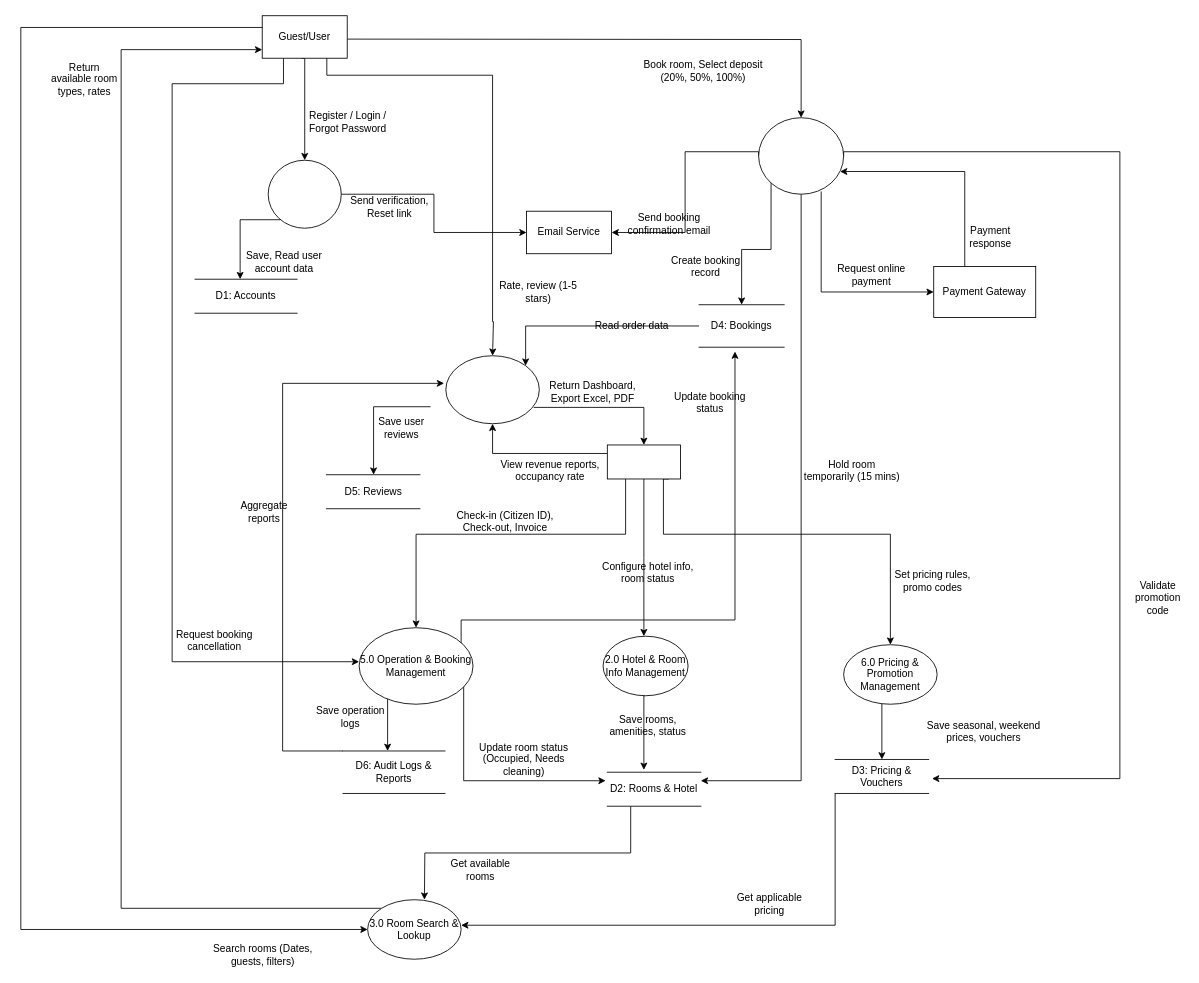
Image size: 1199x983. Some labels were removed from this diagram. Each missing label, with the box of its shape:
1.0 Account Management: (267, 159, 341, 228)
4.0 Booking & Payment: (758, 117, 844, 194)
7.0 Reports & Reviews: (445, 355, 539, 424)
Admin: (606, 444, 680, 479)
